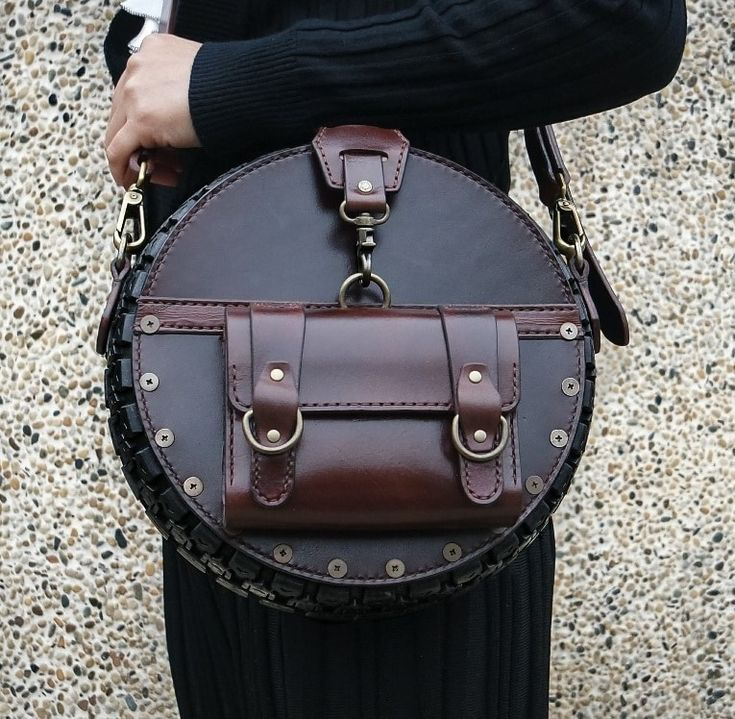cuero: (140, 122, 631, 535)
